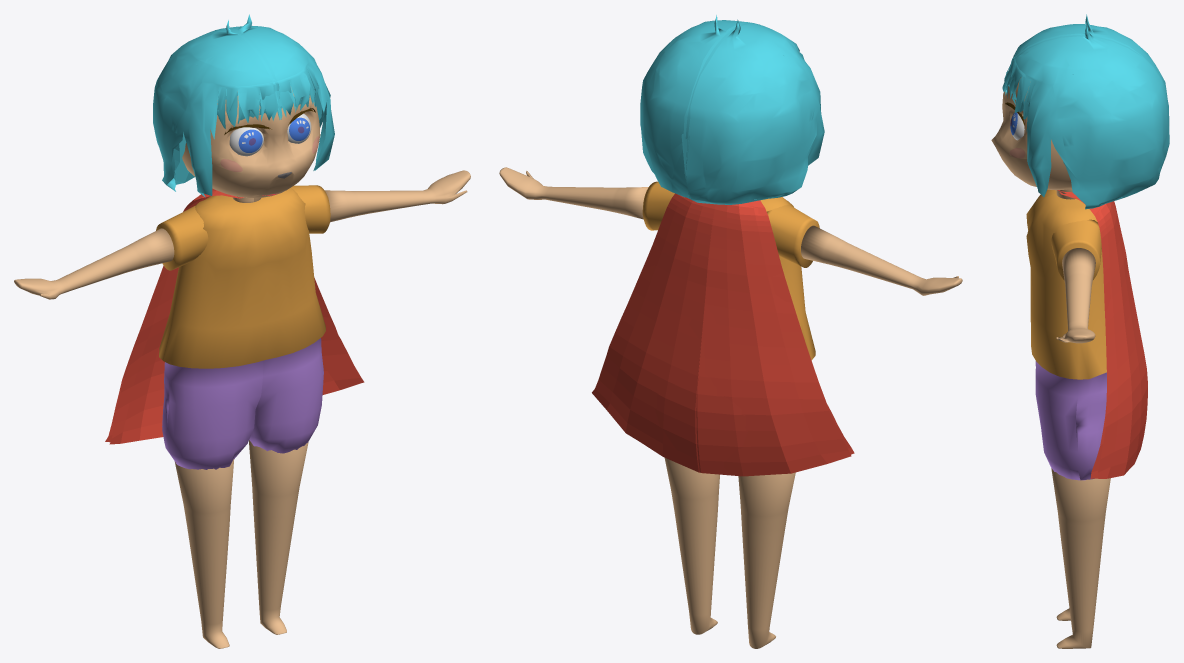
Rendered from Player082.fbx.
3 renders of one model, left to right at view 1: azimuth 30°, elevation 25°; view 2: azimuth 150°, elevation 25°; view 3: azimuth 270°, elevation 25°, orthographic.
Visible parts, largest first — view 1: Hand; view 2: Hand; view 3: Hand.
Boxes of the visible parts, x1=… form: Hand: x1=14, y1=14, x2=470, y2=648; Hand: x1=499, y1=15, x2=962, y2=648; Hand: x1=991, y1=14, x2=1169, y2=648.
Bounding box in the file's own units: 332 × 431 × 114.
